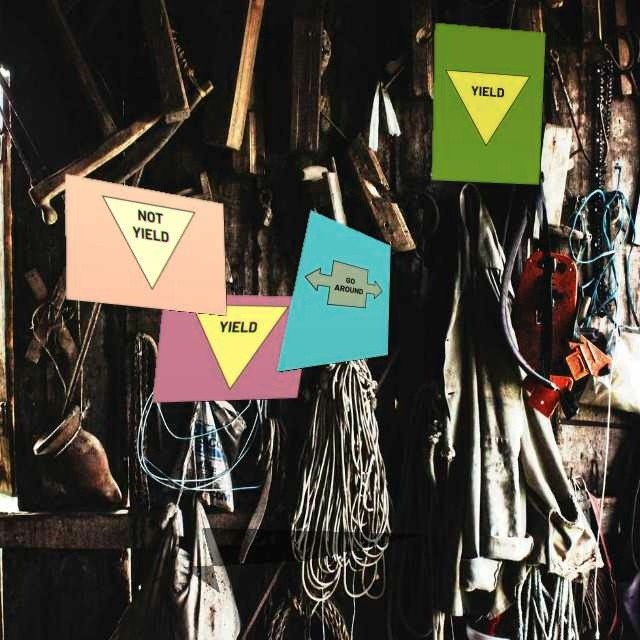GO_AROUND: (300, 253, 383, 309)
NOT_YIELD: (92, 196, 207, 295)
YIELD: (181, 303, 289, 396), (444, 70, 530, 148)
